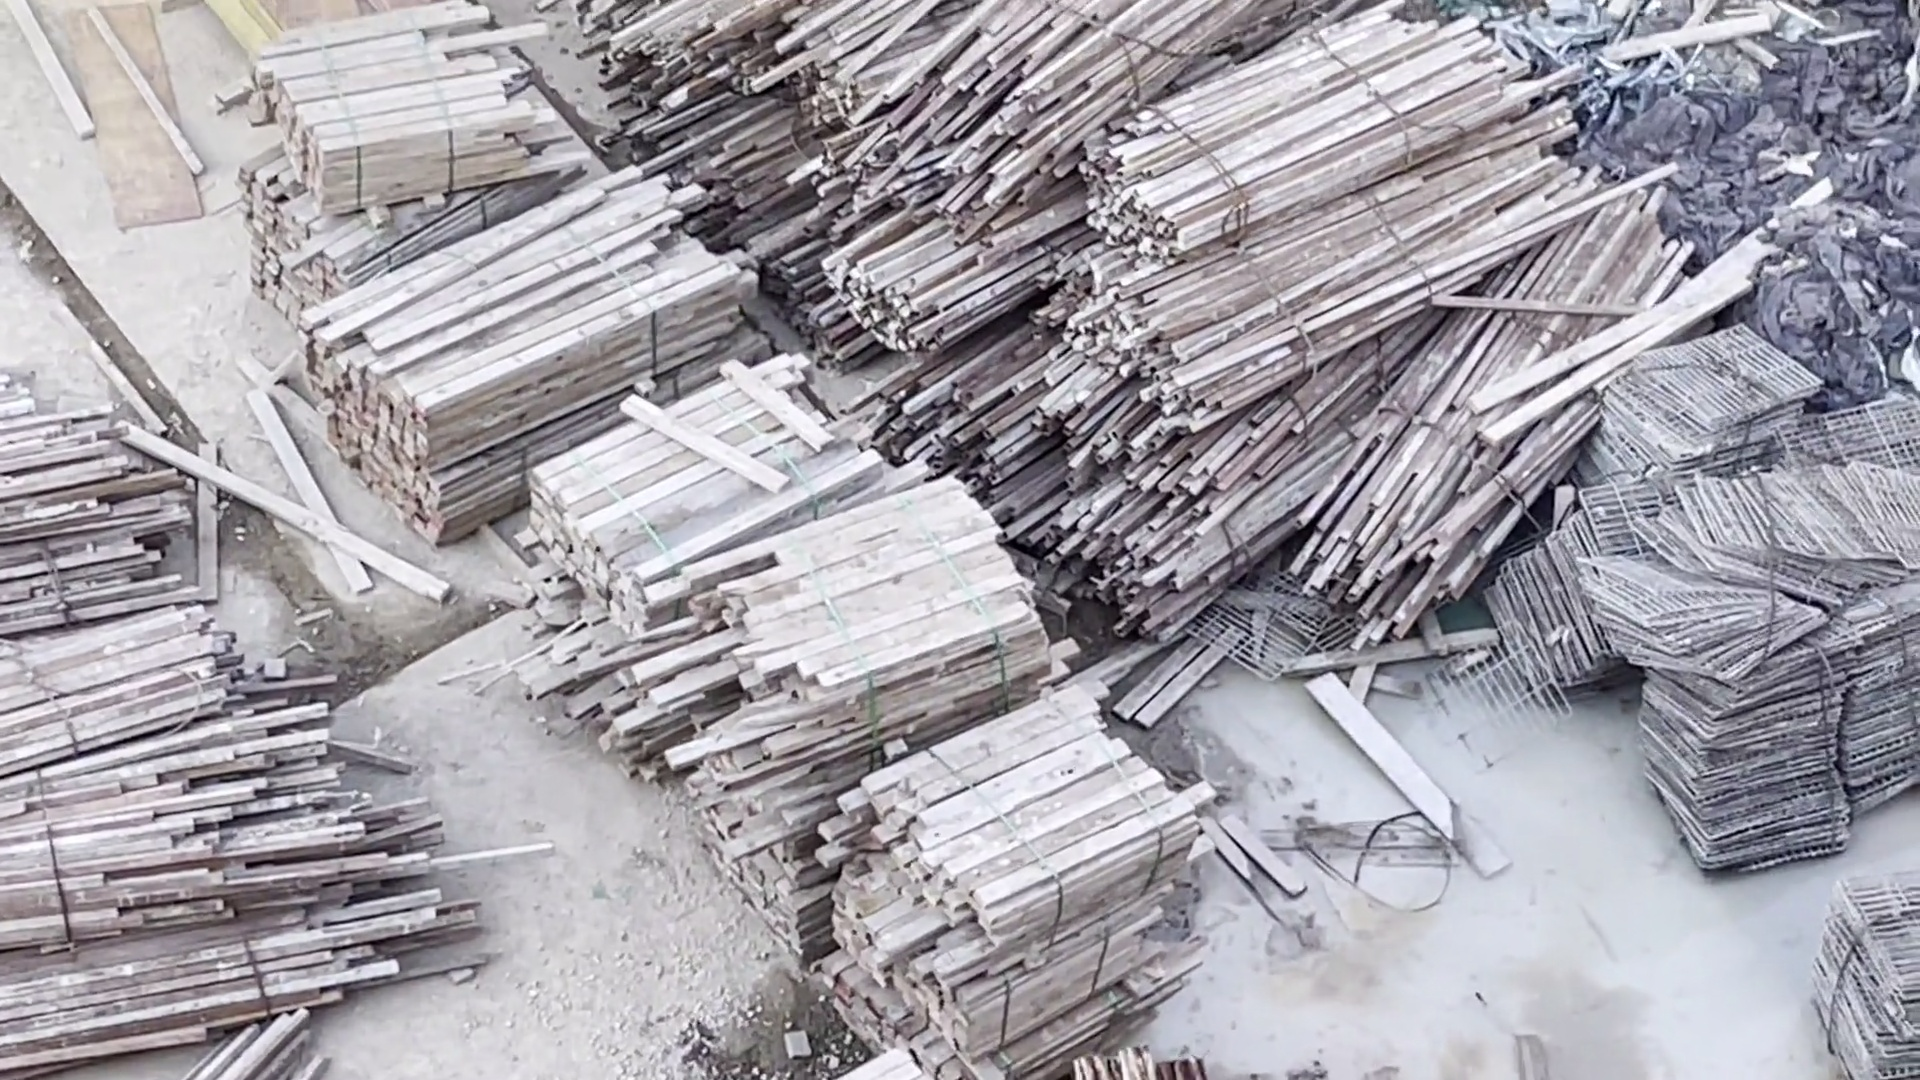wood: (622, 1, 1705, 680), (1, 388, 467, 1062), (200, 32, 789, 505), (531, 456, 1050, 873), (808, 741, 1185, 1069)
